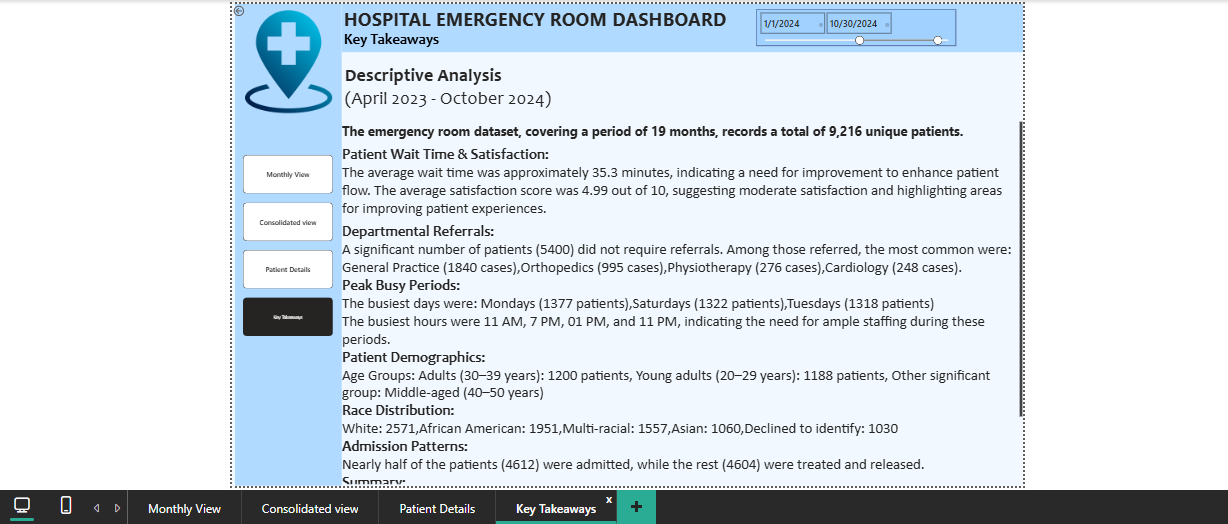

This screenshot's page, from the dashboard's own definition file:
{"tool":"powerbi","page":{"name":"Key Takeaways","canvas":[2300,1400],"ordinal":3},"visuals":[{"type":"shape","box":[9.1,0,310,1399],"z":0},{"type":"shape","box":[319.9,0,1981,140],"z":1000},{"type":"textbox","box":[319.5,0,1263.5,84.2],"z":2000},{"type":"textbox","box":[320.6,70.6,344.1,97.1],"z":3000},{"type":"slicer","fields":{"Values":["Date Table.Date"]},"box":[1522,14.5,580.9,107.5],"z":4000},{"type":"actionButton","box":[0,0,100,40],"z":5000},{"type":"image","box":[14.7,17.6,300,300],"z":6000},{"type":"pageNavigator","box":[32.4,438.2,261.8,526.5],"z":7000},{"type":"textbox","box":[322.4,168.5,702.9,168.5],"z":8000},{"type":"textbox","box":[313.7,336.9,1986.7,1063.1],"z":9000}]}

Visuals, with their boxes on the page's 2300x1400 design canvas (x1, y1, x2, y2). These are canvas units, not pixel positions in the 1228x524 screenshot, which may show the page scaled, cropped or inside an application window:
shape: {"left": 9, "top": 0, "right": 319, "bottom": 1399}
shape: {"left": 320, "top": 0, "right": 2301, "bottom": 140}
textbox: {"left": 320, "top": 0, "right": 1583, "bottom": 84}
textbox: {"left": 321, "top": 71, "right": 665, "bottom": 168}
slicer - Date Table.Date: {"left": 1522, "top": 14, "right": 2103, "bottom": 122}
actionButton: {"left": 0, "top": 0, "right": 100, "bottom": 40}
image: {"left": 15, "top": 18, "right": 315, "bottom": 318}
pageNavigator: {"left": 32, "top": 438, "right": 294, "bottom": 965}
textbox: {"left": 322, "top": 168, "right": 1025, "bottom": 337}
textbox: {"left": 314, "top": 337, "right": 2300, "bottom": 1400}
